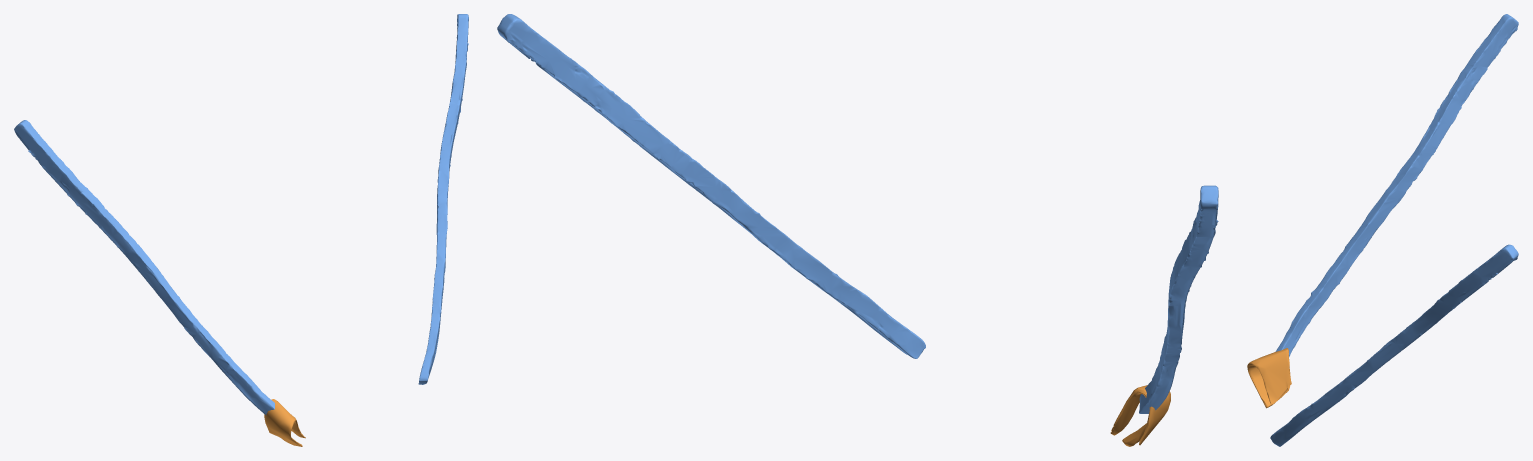
Rendered from supplement-head-neck-connective.glb.
3 views of the same model, side by side, from view 1: azimuth 30°, elevation 25°; view 2: azimuth 150°, elevation 25°; view 3: azimuth 270°, elevation 25° (orthographic). The views are drawn at different scales.
Parts seen in each view (by area): view 1: supplemental:stylohyoid-ligament:isa:FJ2764, supplemental:stylohyoid-ligament:isa:FJ2763, supplemental:intermediate-tendon:isa:FJ1581; view 2: supplemental:stylohyoid-ligament:isa:FJ2763, supplemental:stylohyoid-ligament:isa:FJ2764, supplemental:intermediate-tendon:isa:FJ1581; view 3: supplemental:stylohyoid-ligament:isa:FJ2764, supplemental:stylohyoid-ligament:isa:FJ2763, supplemental:intermediate-tendon:isa:FJ1581.
Boxes of the visible parts, <box> form: supplemental:stylohyoid-ligament:isa:FJ2764: <box>14,120,274,415</box>; supplemental:stylohyoid-ligament:isa:FJ2763: <box>418,14,468,384</box>; supplemental:intermediate-tendon:isa:FJ1581: <box>264,399,305,446</box>; supplemental:stylohyoid-ligament:isa:FJ2763: <box>497,14,925,358</box>; supplemental:stylohyoid-ligament:isa:FJ2764: <box>1139,185,1218,413</box>; supplemental:intermediate-tendon:isa:FJ1581: <box>1110,385,1170,446</box>; supplemental:stylohyoid-ligament:isa:FJ2764: <box>1275,14,1518,356</box>; supplemental:stylohyoid-ligament:isa:FJ2763: <box>1270,244,1518,446</box>; supplemental:intermediate-tendon:isa:FJ1581: <box>1247,348,1291,408</box>.
Bounding box in the file's own units: 0.083 × 0.0496 × 0.04.
